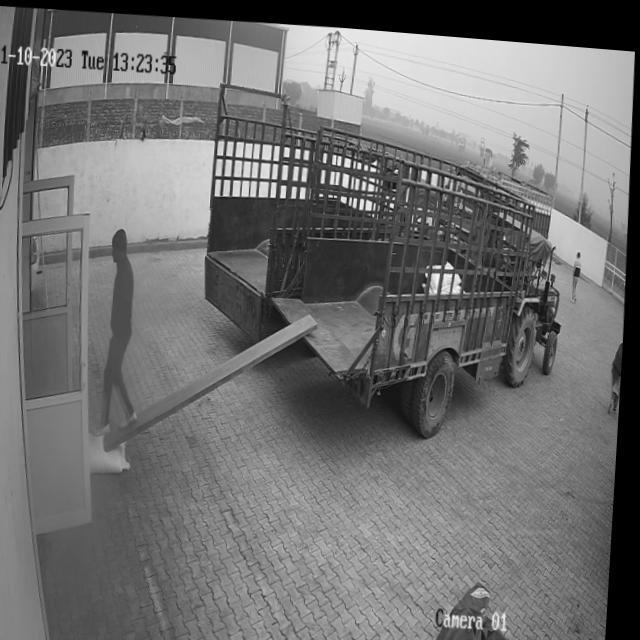sack: (92, 431, 136, 473)
